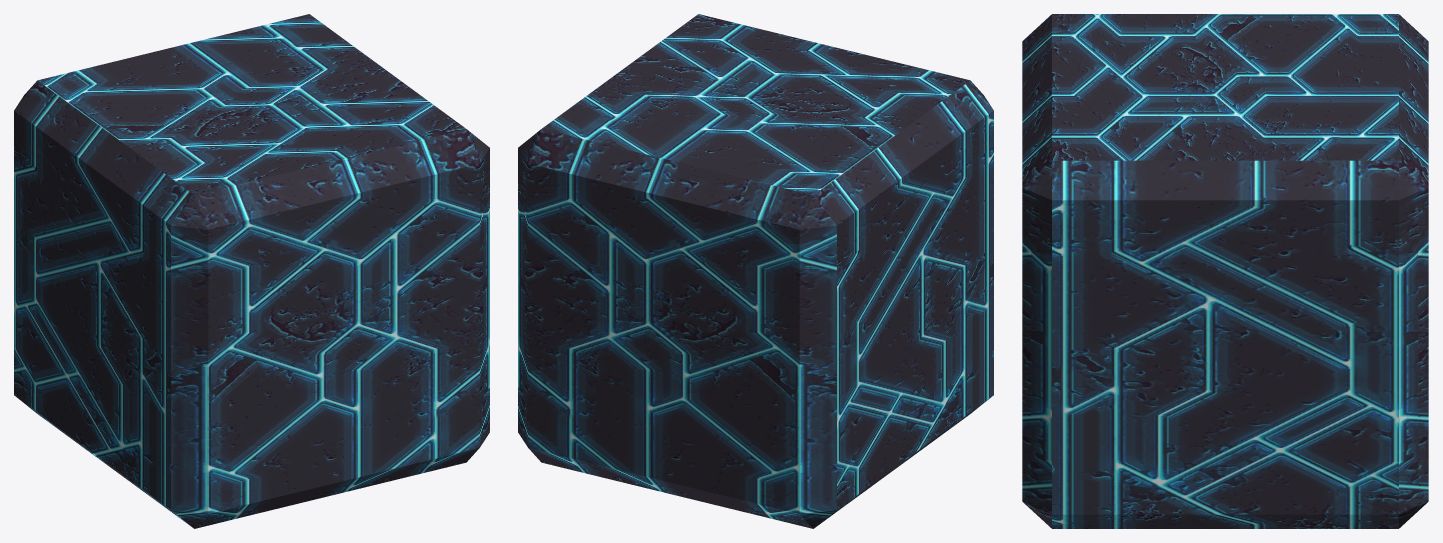
File: tile.dae
The picture shows the model from 3 angles, left to right: view 1: azimuth 30°, elevation 25°; view 2: azimuth 150°, elevation 25°; view 3: azimuth 270°, elevation 25°; orthographic projection. The views are drawn at different scales.
Visible parts, largest first — view 1: vsn_mesh_0__meshIndex0; view 2: vsn_mesh_0__meshIndex0; view 3: vsn_mesh_0__meshIndex0.
Boxes of the visible parts, bbox=[...] form: vsn_mesh_0__meshIndex0: bbox=[14, 14, 489, 528]; vsn_mesh_0__meshIndex0: bbox=[518, 14, 993, 528]; vsn_mesh_0__meshIndex0: bbox=[1022, 14, 1428, 528].
Size of the model in its own units: 32.09 by 32.09 by 32.09.
Materials: 1 (1 with a texture image).
